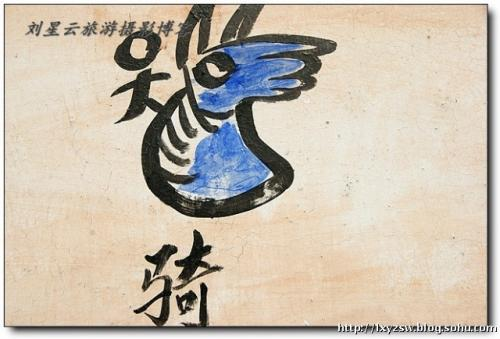chinese: (132, 229, 220, 327), (25, 11, 189, 42)
naxi: (114, 2, 335, 220)
